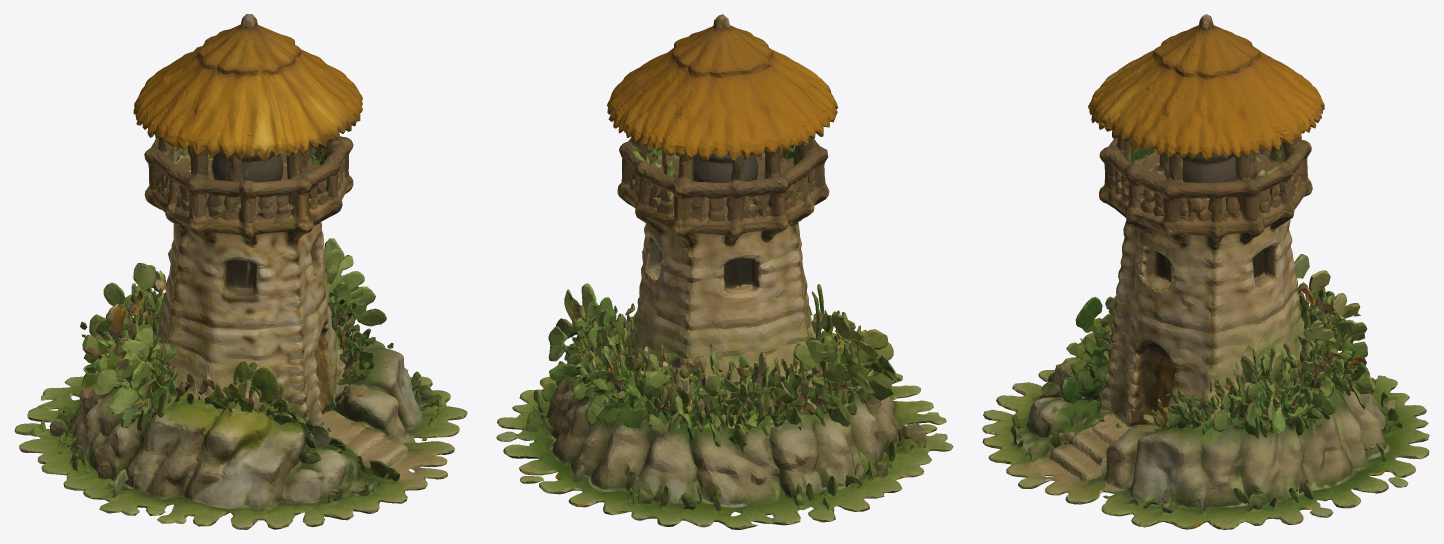
Rendered from wc-watchtower-paint.glb.
3 views of the same model, side by side, from view 1: azimuth 30°, elevation 25°; view 2: azimuth 150°, elevation 25°; view 3: azimuth 270°, elevation 25° (orthographic).
Parts seen in each view (by area): view 1: geometry_0; view 2: geometry_0; view 3: geometry_0.
Part boxes in pixels (box(x1,y1,x2,y2)): geometry_0: box(14, 14, 467, 529); geometry_0: box(496, 14, 953, 529); geometry_0: box(982, 14, 1429, 529).
Size of the model in its own units: 1.9 by 1.99 by 1.91.
1 material, 1 textured.
